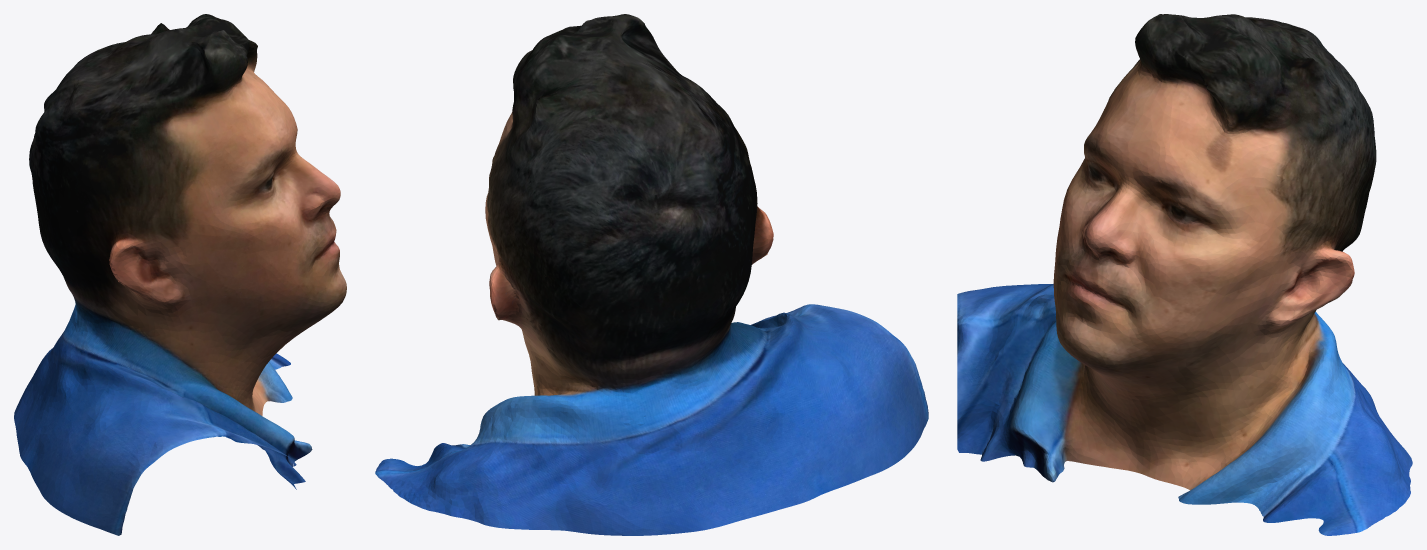
The picture shows the model from 3 angles, left to right: view 1: azimuth 30°, elevation 25°; view 2: azimuth 150°, elevation 25°; view 3: azimuth 270°, elevation 25°; orthographic projection. The views are drawn at different scales.
Size of the model in its own units: 0.7027 by 0.742 by 0.6944.
Materials: 1 (1 with a texture image).
